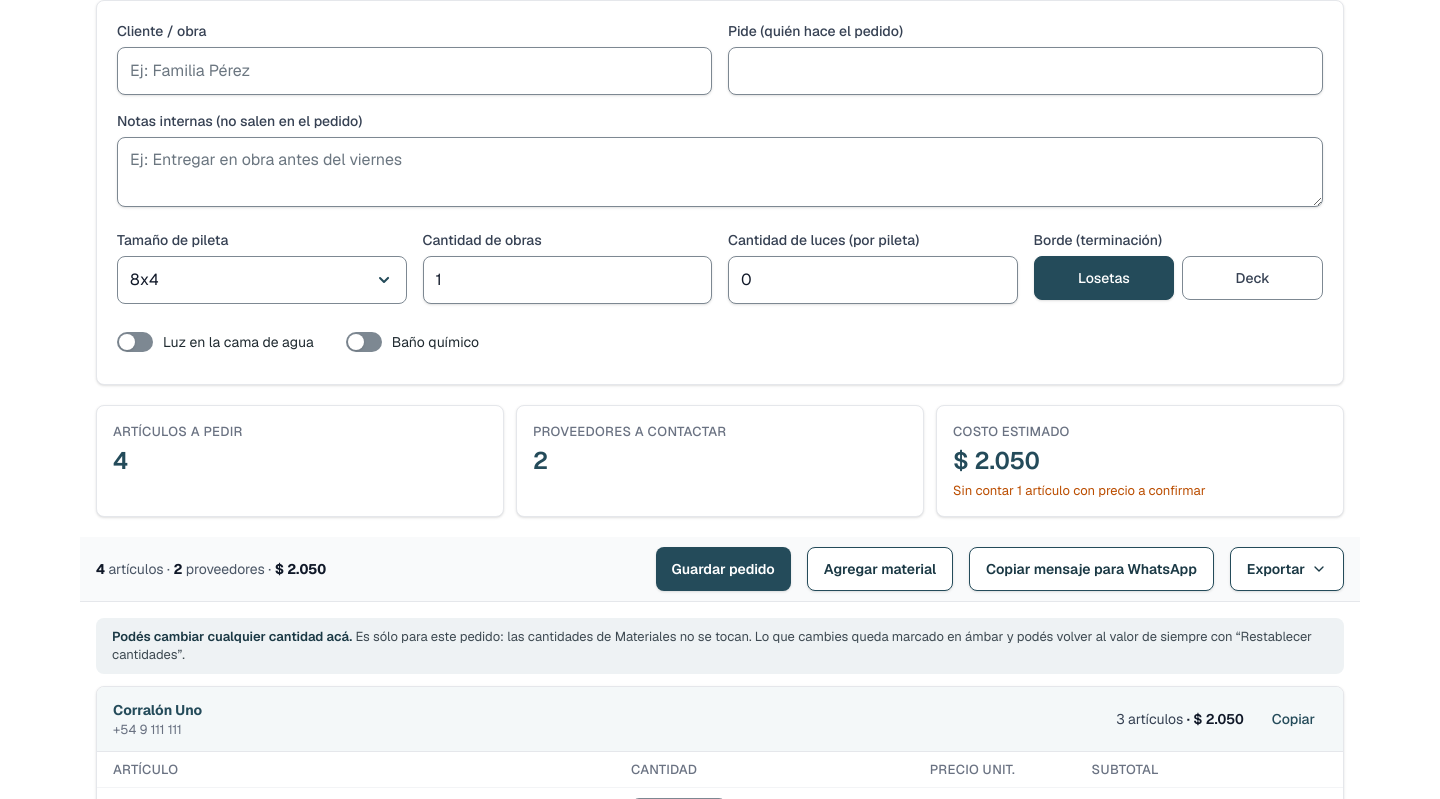
Test: Armar pedido › cambiar el borde cambia qué se pide
Check: the element named "Resumen del pedido" is shown, box [96, 405, 1344, 517]
Click the button "Deck" at x=1253, y=278, box [1182, 256, 1323, 300]
(page scrolled)
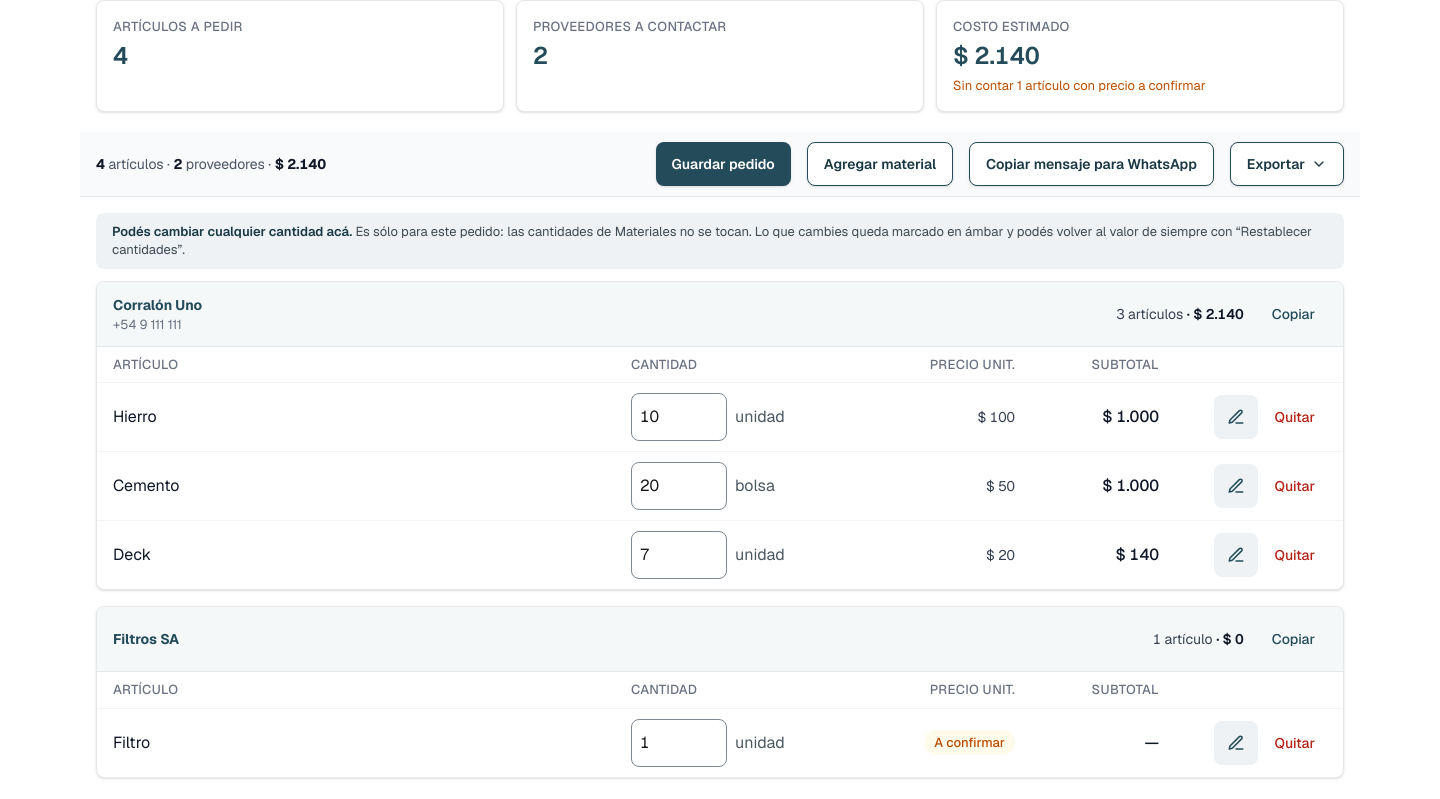
Check: the text "Losetas" is not shown
Check: the text "Deck" is shown, box [113, 544, 151, 565]
